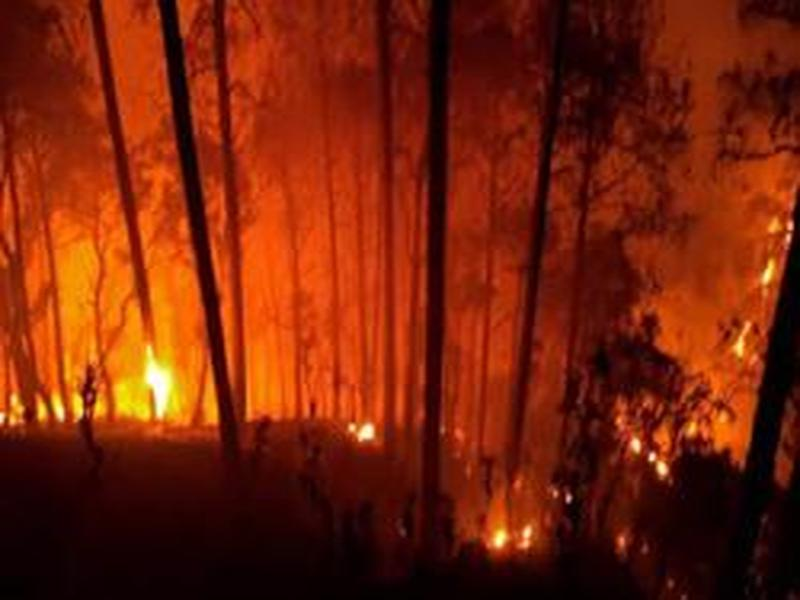FIRE: (32, 324, 471, 488)
